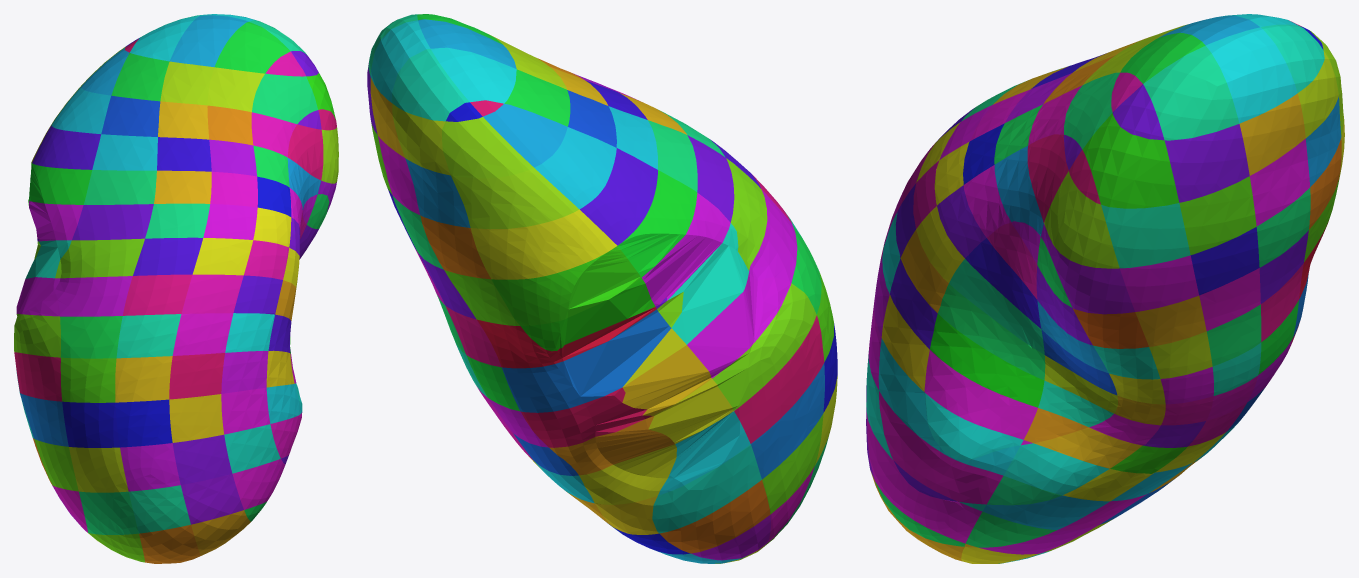
File: kidney-female-right-vu.glb
The picture shows the model from 3 angles, left to right: view 1: azimuth 30°, elevation 25°; view 2: azimuth 150°, elevation 25°; view 3: azimuth 270°, elevation 25°; orthographic projection. The views are drawn at different scales.
Parts seen in each view (by area): view 1: B-7-I, B-8-I, B-6-I, B-9-I, C-9-I, C-10-I, B-10-I, E-2-I, C-11-I, D-1-I, C-8-I, C-1-I (+67 smaller); view 2: B-7-II, A-4-II, A-5-II, A-3-II, A-9-I, A-8-I, A-7-I, A-11-II, A-5-I, A-4-I, A-10-I, B-8-II (+50 smaller); view 3: E-2-II, D-1-II, C-1-II, F-12-I, D-2-II, E-3-II, G-10-I, F-3-II, G-9-I, E-13-I, D-3-II, F-11-I (+84 smaller).
Boxes of the visible parts, box(x1,y1,x2,y2) form: B-7-I: box(34, 238, 144, 278); B-8-I: box(53, 276, 132, 316); B-6-I: box(37, 204, 153, 241); B-9-I: box(60, 316, 122, 358); C-9-I: box(116, 314, 181, 358); C-10-I: box(115, 356, 172, 402); B-10-I: box(60, 357, 116, 402); E-2-I: box(252, 73, 318, 124); C-11-I: box(115, 399, 172, 447); D-1-I: box(214, 22, 290, 73); C-8-I: box(122, 274, 192, 315); C-1-I: box(169, 15, 248, 67); B-7-II: box(502, 309, 671, 412); A-4-II: box(470, 209, 617, 279); A-5-II: box(491, 246, 641, 325); A-3-II: box(451, 168, 579, 229); A-9-I: box(712, 283, 816, 410); A-8-I: box(687, 271, 791, 378); A-7-I: box(667, 223, 748, 344); A-11-II: box(652, 444, 761, 533); A-5-I: box(618, 170, 697, 277); A-4-I: box(580, 148, 657, 245); A-10-I: box(734, 315, 824, 443); B-8-II: box(521, 387, 651, 447); E-2-II: box(1082, 113, 1179, 208); D-1-II: box(1143, 46, 1239, 140); C-1-II: box(1206, 27, 1297, 123); F-12-I: box(879, 391, 1003, 504); D-2-II: box(1164, 124, 1249, 202); E-3-II: box(1101, 203, 1190, 268); G-10-I: box(924, 350, 1037, 439); F-3-II: box(1044, 171, 1119, 268); G-9-I: box(930, 314, 1044, 407); E-13-I: box(866, 413, 982, 543); D-3-II: box(1179, 176, 1256, 254); F-11-I: box(878, 338, 1020, 475).
Size of the model in its own units: 0.0715 by 0.0967 by 0.0675.
